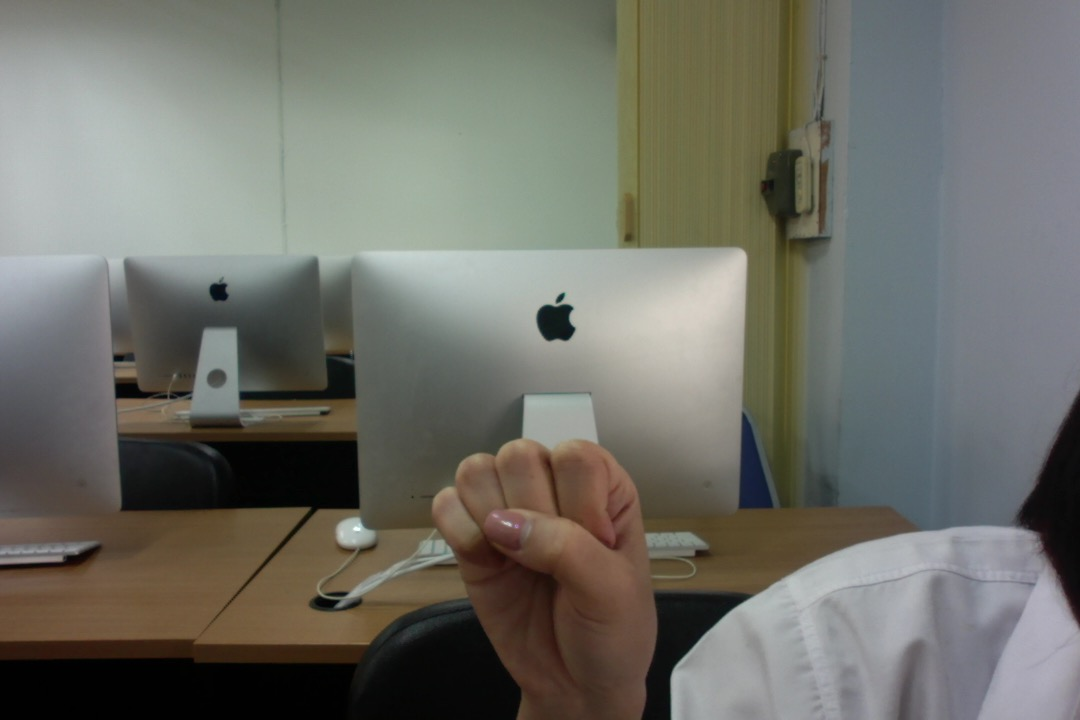sor: (421, 426, 670, 710)
